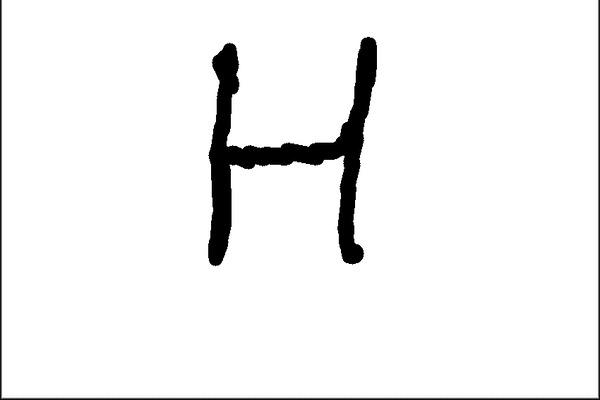H: (195, 35, 380, 270)
